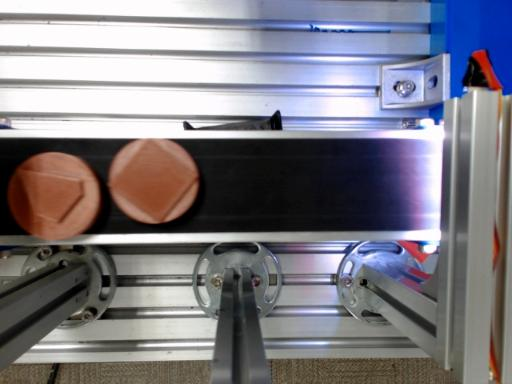Brown_Waper: (6, 152, 102, 239), (109, 139, 199, 223)
